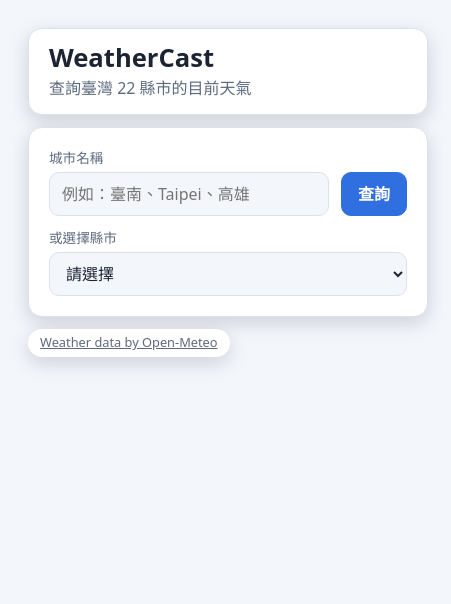
App › shows the not_found error state
Type "Tokyo" into the field labelled "城市名稱" at (189, 194), box [49,172,329,216]
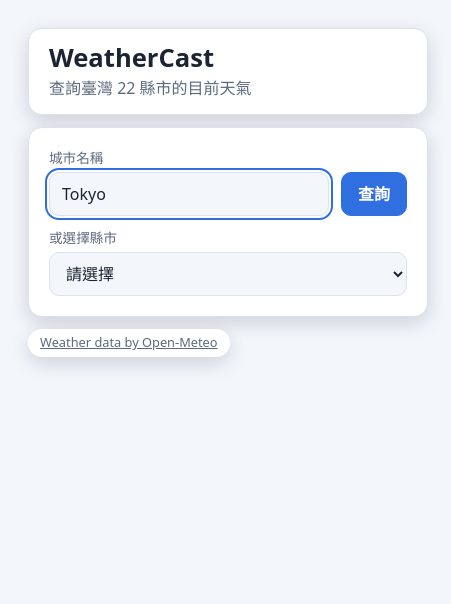
Click the button "查詢" at (374, 194), box [341,172,407,216]
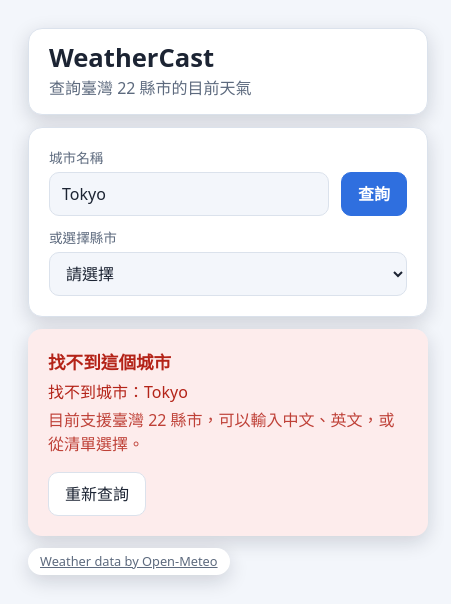
Check: the heading "找不到這個城市" is shown, box [48,350,171,374]
